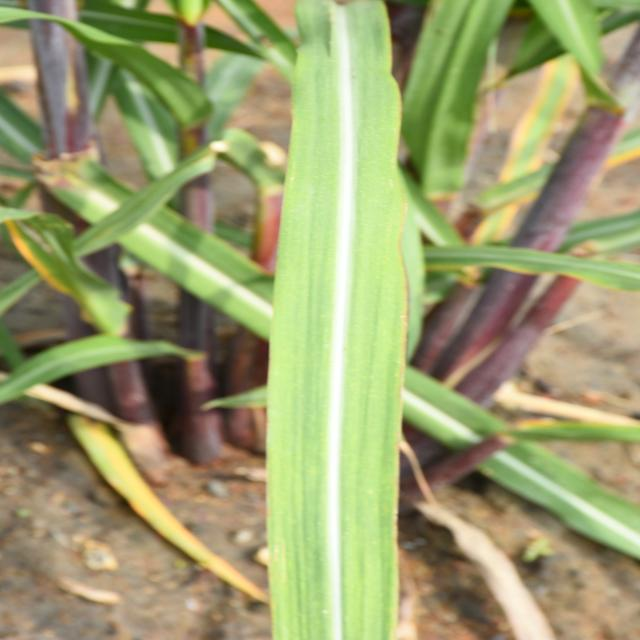Sugarcane: (263, 7, 407, 640)
